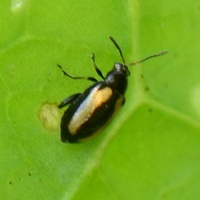insect: (58, 36, 167, 142)
